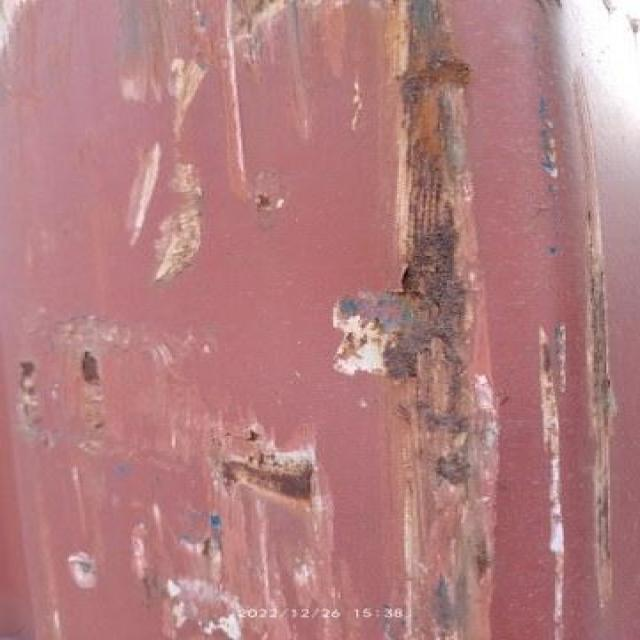rust: (369, 31, 485, 444)
